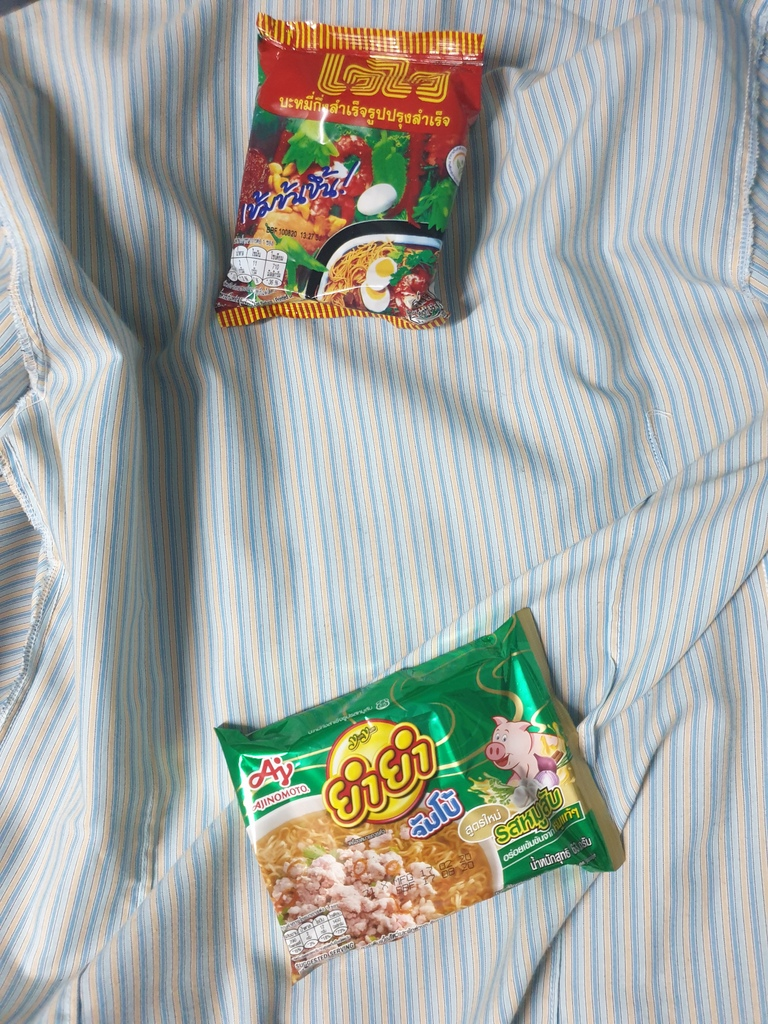waiwai: (226, 16, 484, 333)
yumyum: (241, 636, 640, 922)
